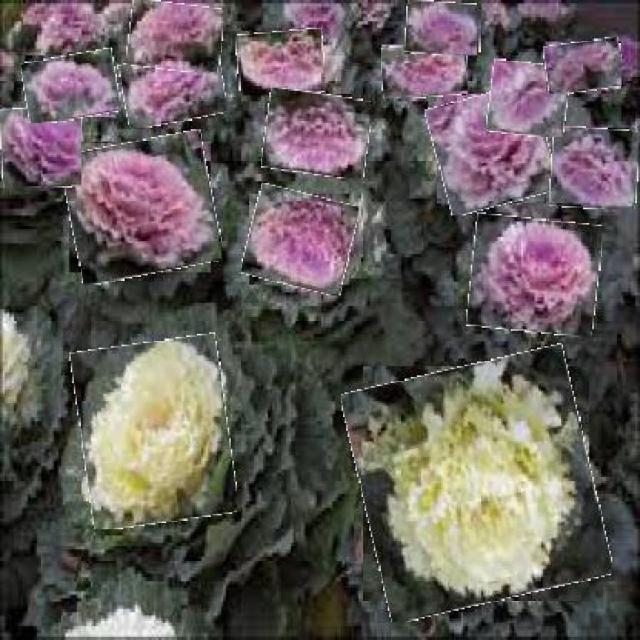Flower: (352, 355, 603, 613), (75, 337, 234, 526), (64, 136, 218, 281), (470, 215, 601, 334), (431, 88, 554, 211), (245, 189, 356, 292), (262, 91, 370, 177), (120, 51, 226, 126), (550, 127, 639, 210), (23, 53, 120, 122), (129, 1, 223, 72), (1, 107, 82, 188), (488, 61, 570, 138), (237, 30, 326, 96), (381, 44, 468, 99), (405, 1, 481, 57), (546, 39, 623, 93)
